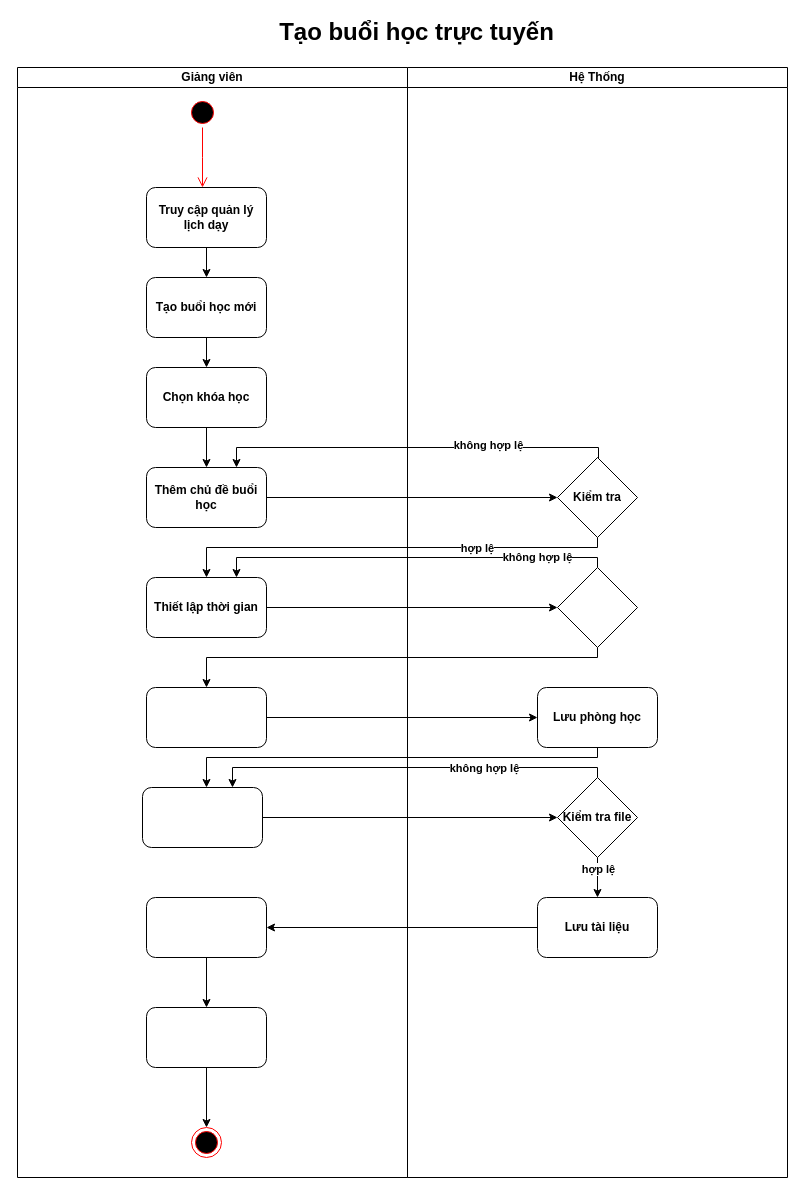
The diagram is 805 pixels wide and 1195 high, and some of its shapes have lost their labels. Here are the shapes that lost their labels. From the top down, the centre of each, then its label:
At (597,607): "Kiểm tra lịch trùng".
At (206,717): "Thêm link phòng học".
At (202,817): "Đính kèm tài liệu".
At (206,927): "Xác nhận tạo lịch học".
At (206,1037): "Gửi thông báo cho các học viên".
